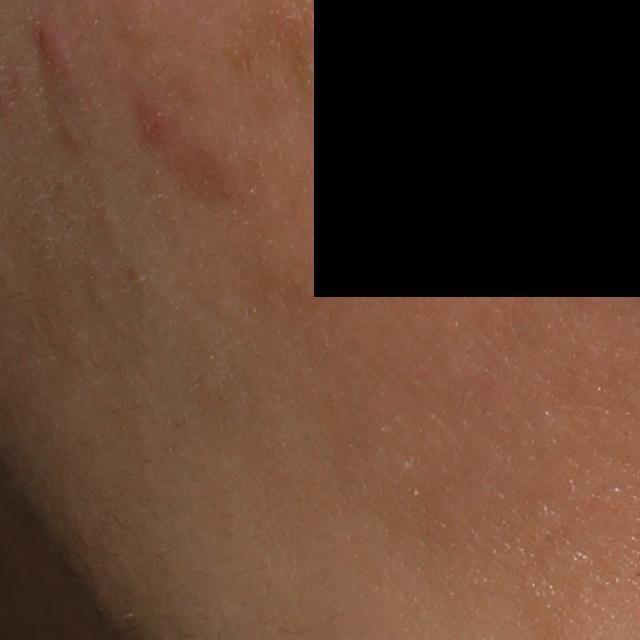papule: (25, 6, 71, 69), (129, 94, 174, 144)
